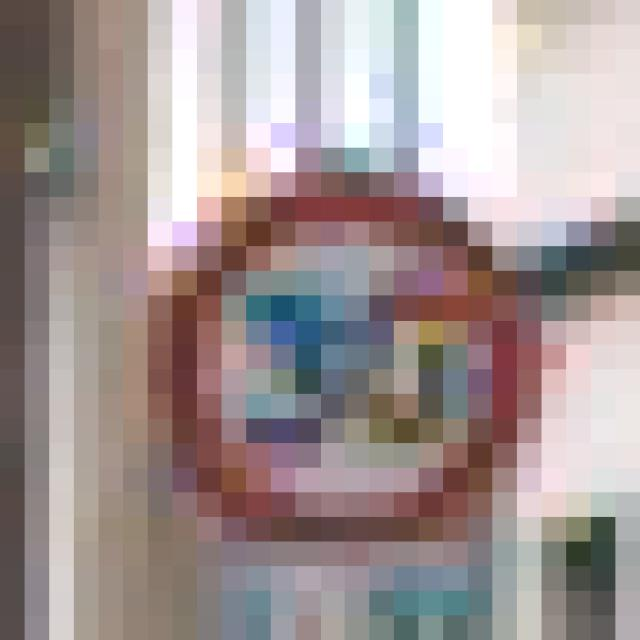Speed Limit -30-: (110, 110, 504, 504)
